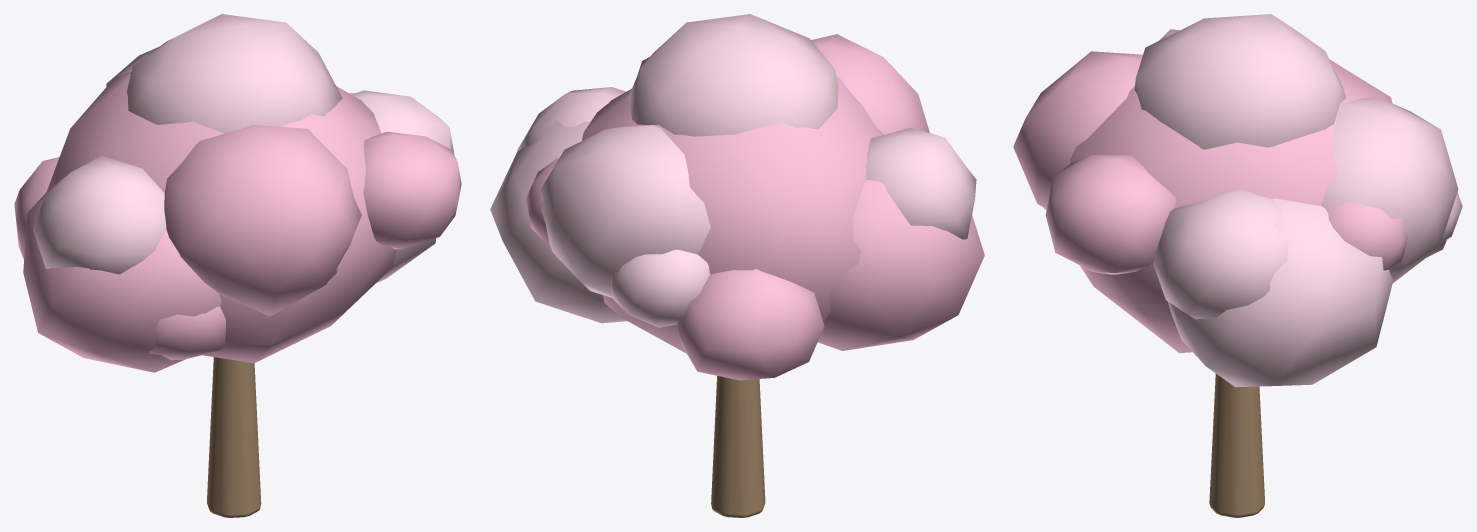
Rendered from tree_blossom.fbx.
3 views of the same model, side by side, from view 1: azimuth 30°, elevation 25°; view 2: azimuth 150°, elevation 25°; view 3: azimuth 270°, elevation 25° (orthographic).
Visible parts, largest first — view 1: Visual; view 2: Visual; view 3: Visual.
Boxes of the visible parts, x1,y1,x2,y2 form: Visual: (14, 14, 461, 517); Visual: (490, 14, 984, 517); Visual: (1013, 14, 1462, 517).
Size of what is drawn, in the model's own units: 402 by 436 by 365.
